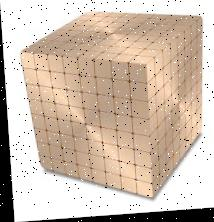cube: (17, 7, 212, 208)
